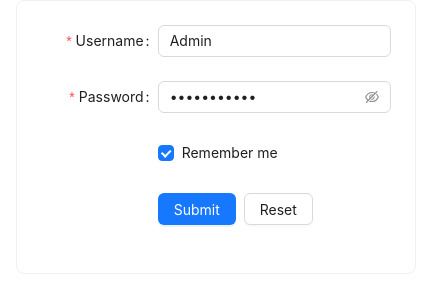
LoginForm › handles form submission failure
Clear the field with test id "username-input" at (274, 41), box [158,25,391,57]
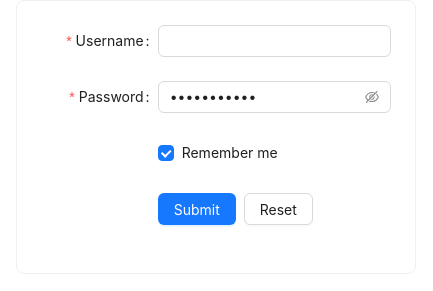
Clear the password field with test id "password-input" at (265, 97), box [170,86,361,108]
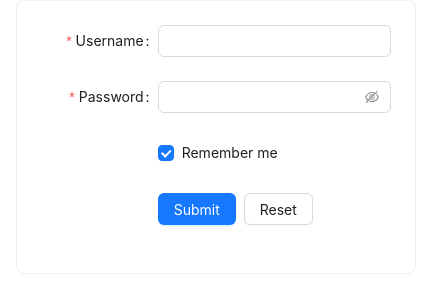
Click the button with test id "submit-button".
click(197, 209)  # box [158,193,236,225]
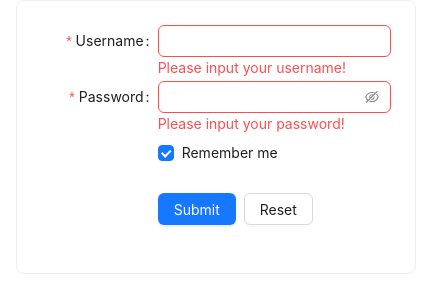
Result: the text "Please input your username!" is shown at [158,59,346,76]
Result: the text "Please input your password!" is shown at [158,115,345,132]
